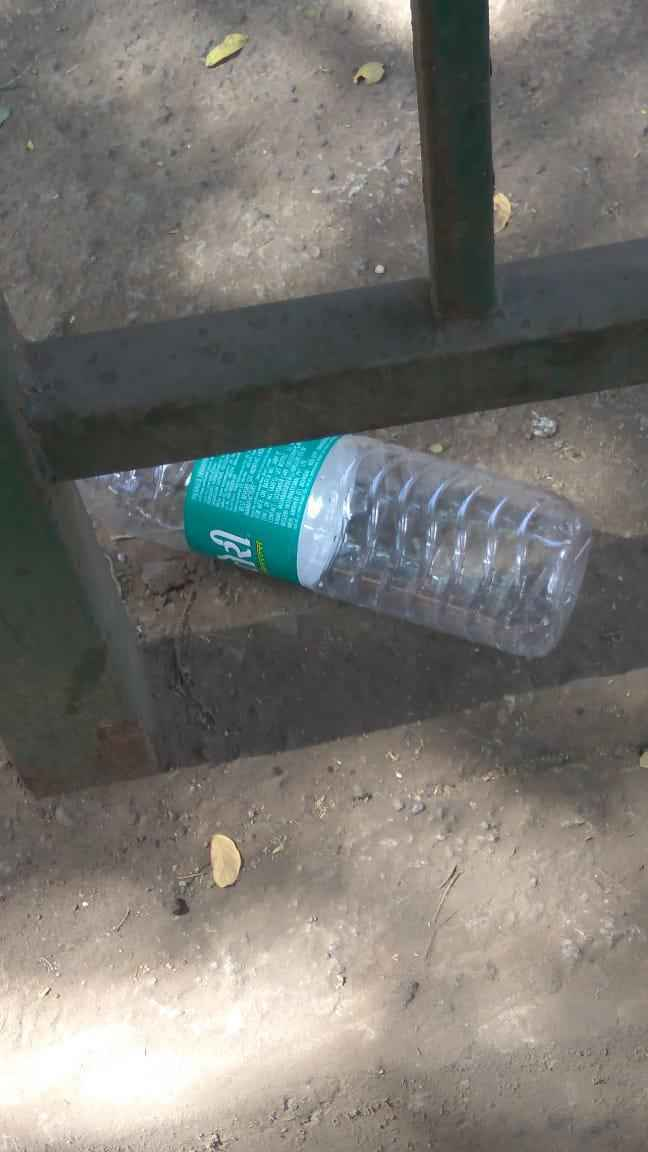Bisleri: (201, 452, 304, 573)
